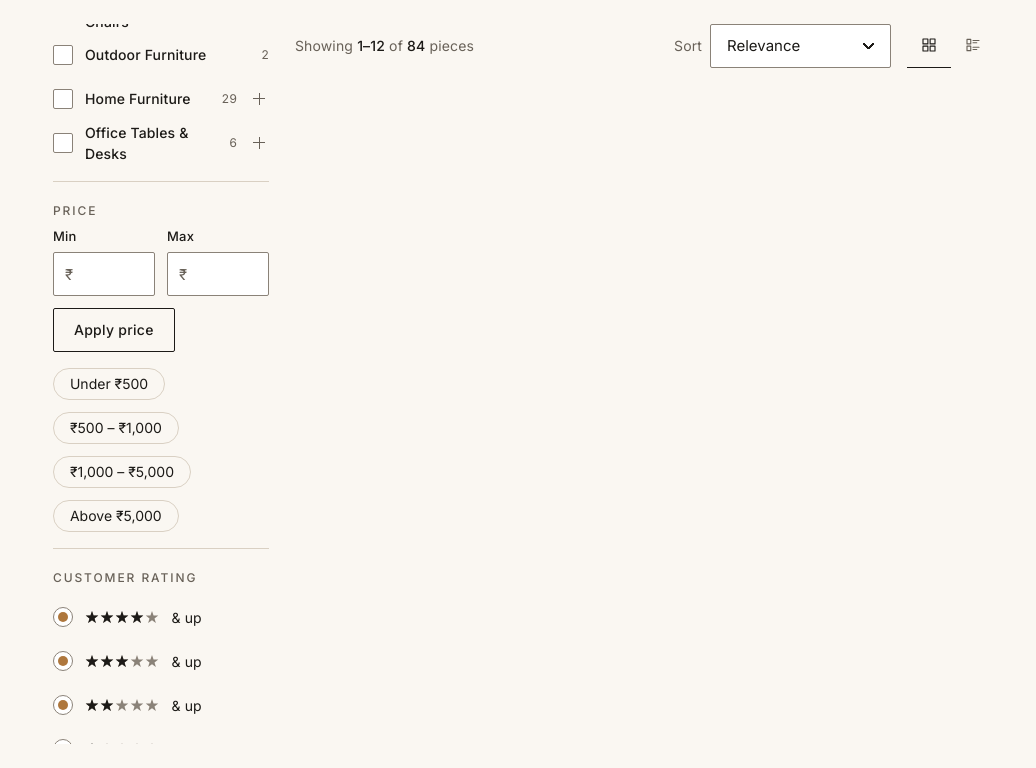
Scenario: Under ₹500 matches nothing in the seeded catalogue and says so
(page scrolled)
Click the button "Under ₹500". click: (109, 384)
box: [53,368,165,400]
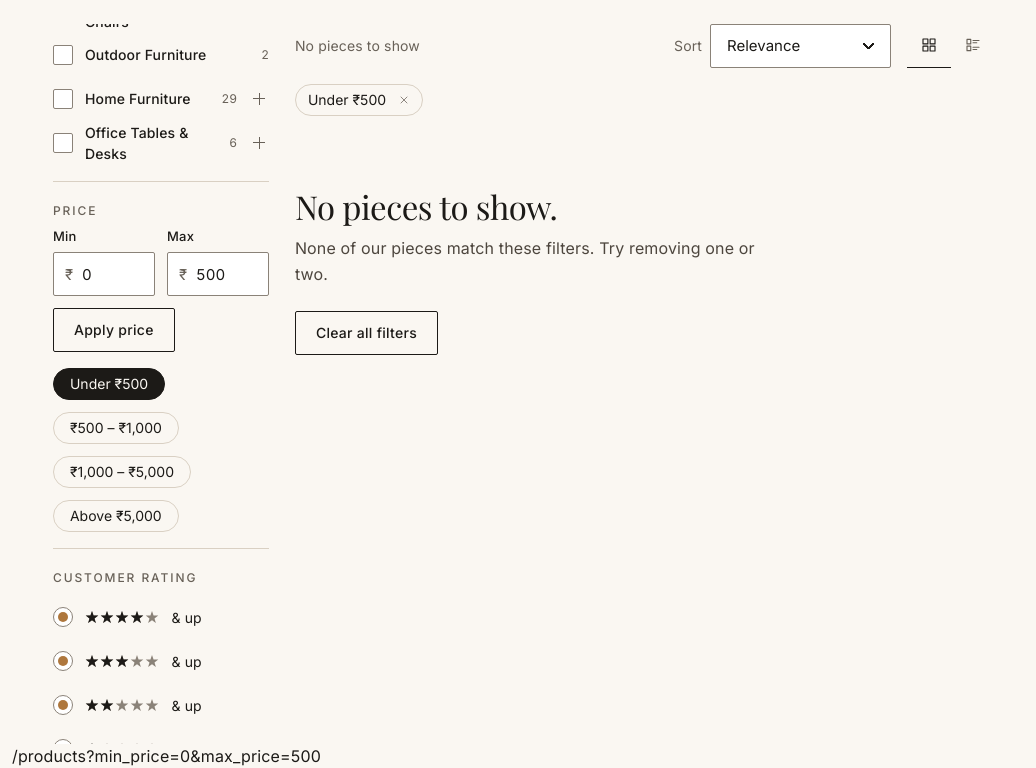
Expected: the text "No pieces to show" is shown, [295,37,420,54]
Expected: the heading "No pieces to show." is shown, [295,184,557,228]
Expected: the button with aria-label "Remove Under ₹500" is shown, [295,84,423,116]
